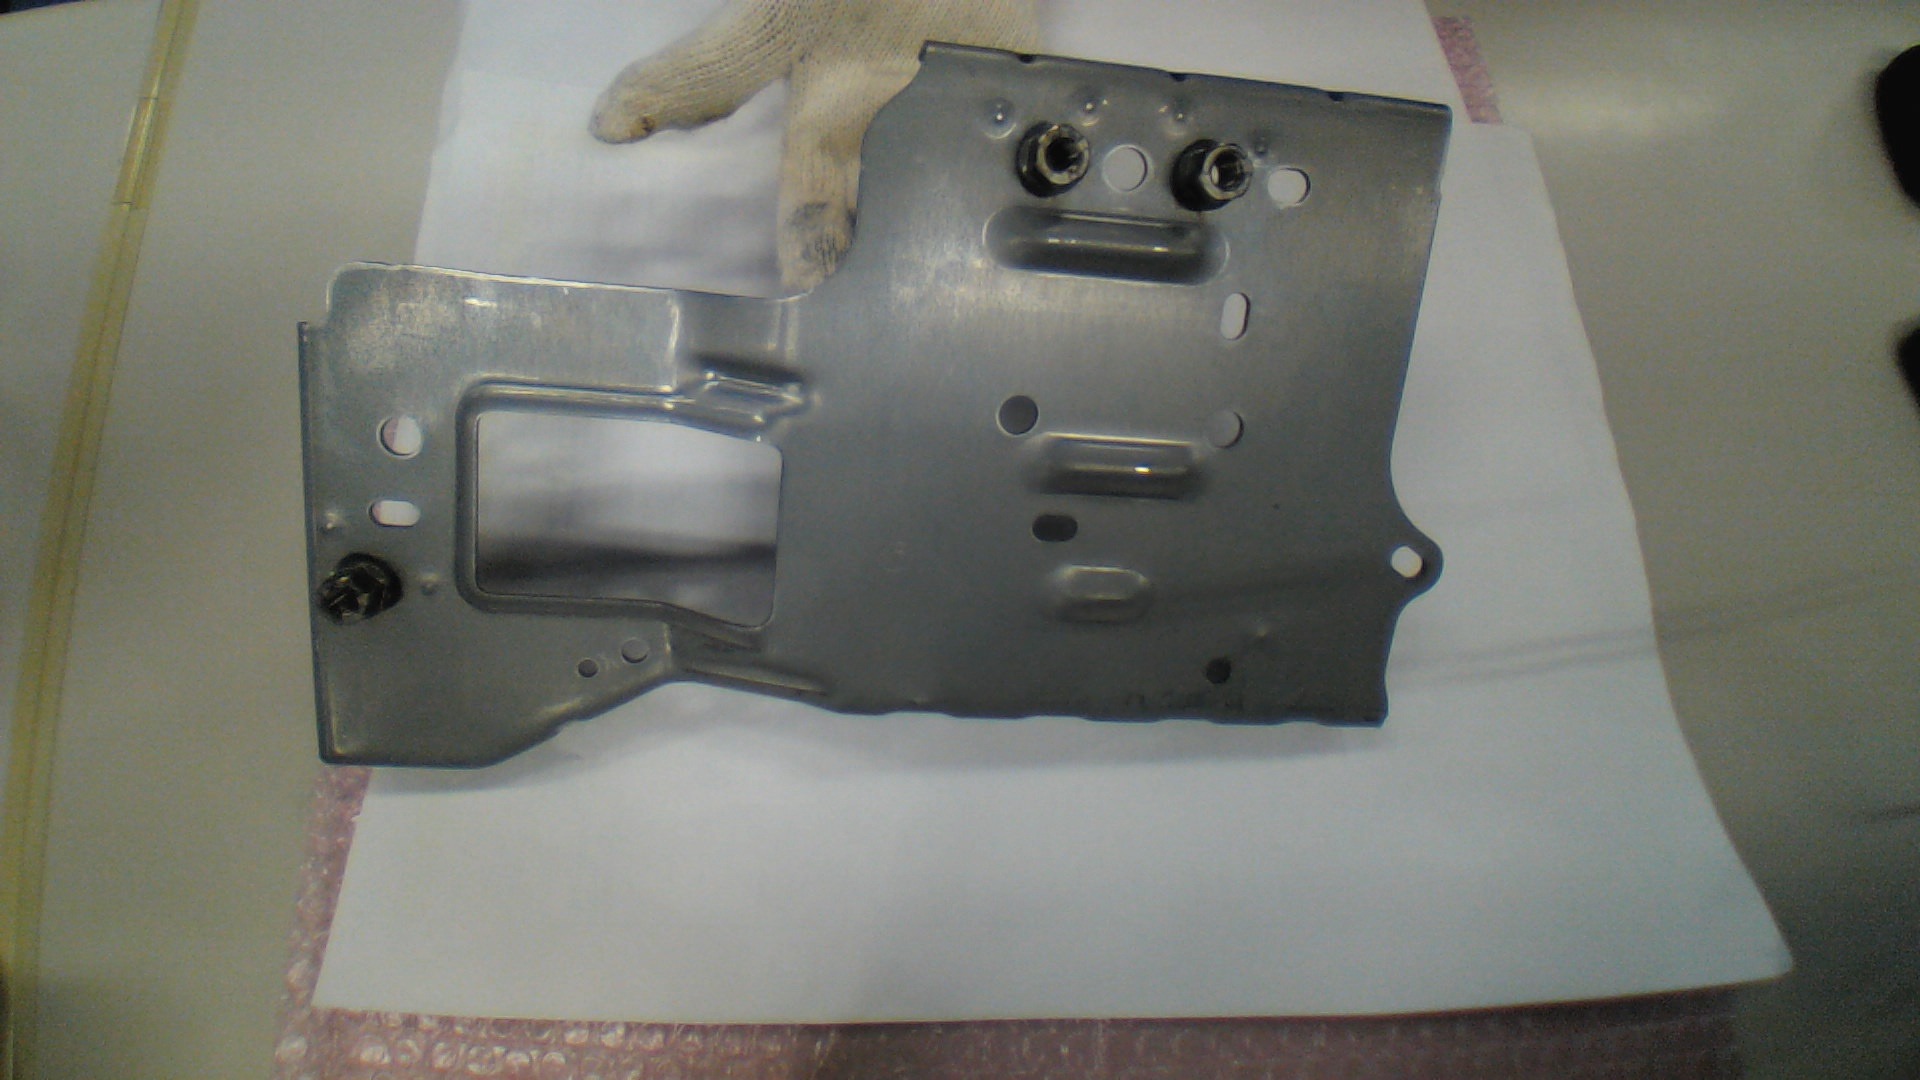dog: (315, 550, 404, 629), (1170, 137, 1255, 212), (1015, 120, 1091, 199)
